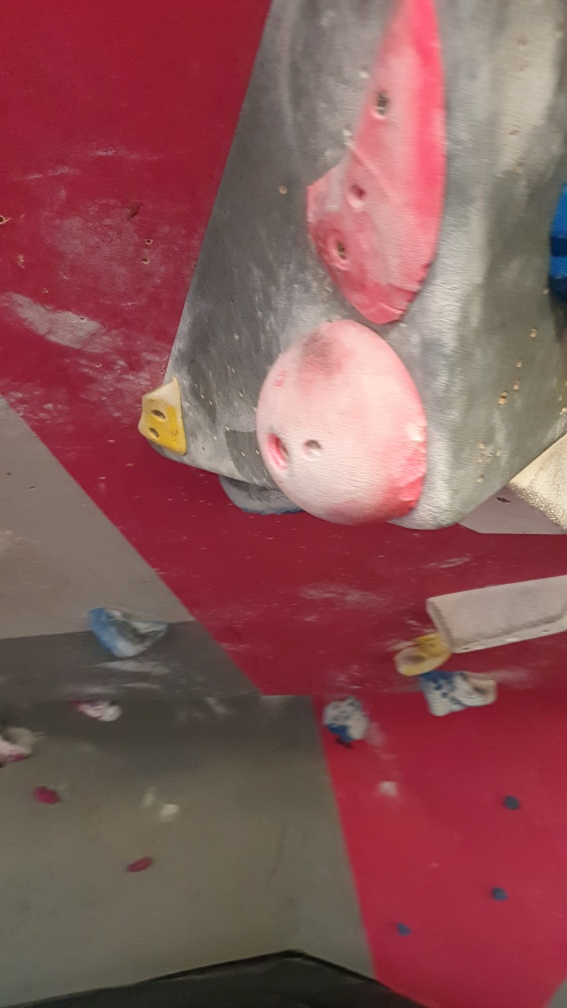Crimp: (135, 378, 191, 453)
Sloper: (254, 319, 431, 534)
